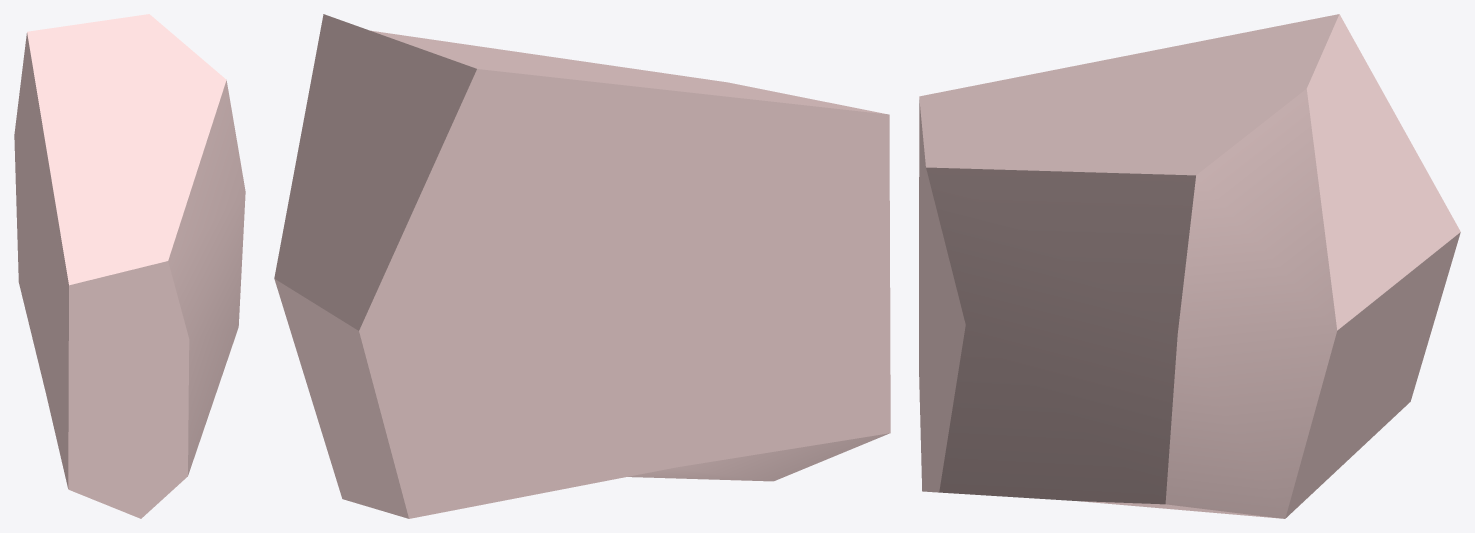
Rendered from Ear L.fbx.
The picture shows the model from 3 angles, left to right: view 1: azimuth 30°, elevation 25°; view 2: azimuth 150°, elevation 25°; view 3: azimuth 270°, elevation 25°; orthographic projection. The views are drawn at different scales.
Visible parts, largest first — view 1: Ear L_Baked; view 2: Ear L_Baked; view 3: Ear L_Baked.
Part boxes in pixels (<box>): Ear L_Baked: <box>14,14,245,518</box>; Ear L_Baked: <box>274,14,890,518</box>; Ear L_Baked: <box>919,14,1460,518</box>.
Size of the model in its own units: 23.36 by 30.14 by 29.42.
Materials: 1 (1 with a texture image).
